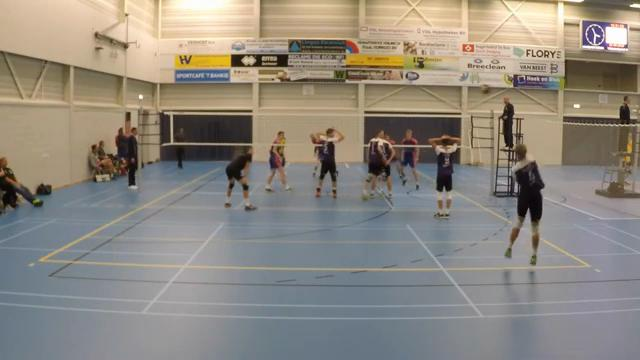Player: (428, 135, 460, 218), (362, 130, 394, 199), (312, 128, 343, 197), (225, 148, 256, 210), (362, 130, 385, 199), (265, 131, 291, 192), (398, 129, 419, 189), (382, 135, 395, 197), (311, 132, 324, 177), (310, 133, 322, 177), (389, 153, 399, 170)
Serve: (494, 139, 548, 271)
ball: (479, 82, 489, 96)
